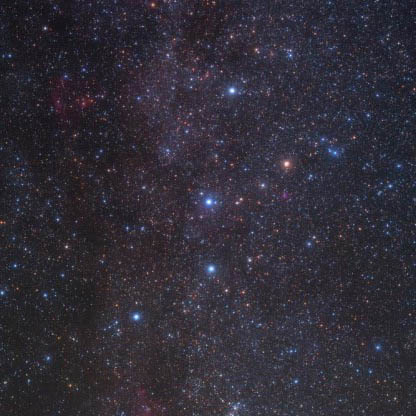Cassiopeia: (256, 151, 297, 197), (123, 304, 157, 339), (219, 77, 247, 107), (197, 186, 222, 215), (199, 260, 229, 283)
